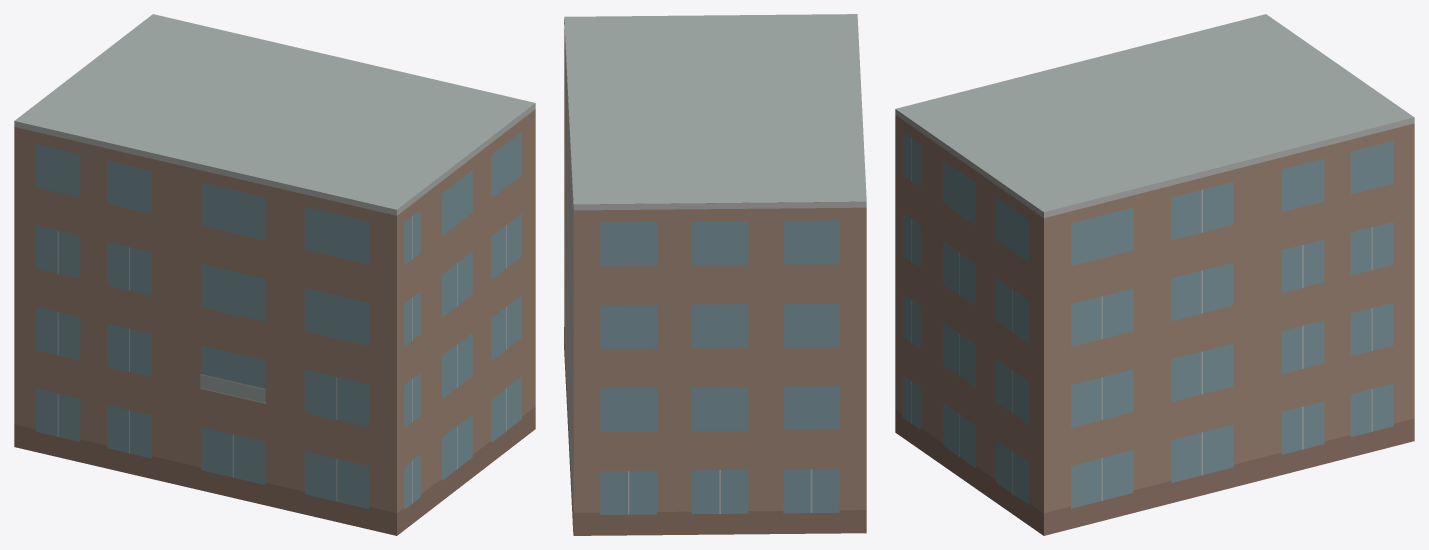
File: survey-upis-32763463.glb
3 views of the same model, side by side, from view 1: azimuth 30°, elevation 25°; view 2: azimuth 150°, elevation 25°; view 3: azimuth 270°, elevation 25° (orthographic). The views are drawn at different scales.
Parts seen in each view (by area): view 1: survey-upis-32763463.tmp; view 2: survey-upis-32763463.tmp; view 3: survey-upis-32763463.tmp.
Part boxes in pixels (<box>): survey-upis-32763463.tmp: <box>14,14,535,535</box>; survey-upis-32763463.tmp: <box>564,14,866,535</box>; survey-upis-32763463.tmp: <box>895,14,1414,535</box>.
Bounding box in the file's own units: 17.55 × 13.35 × 19.43.
